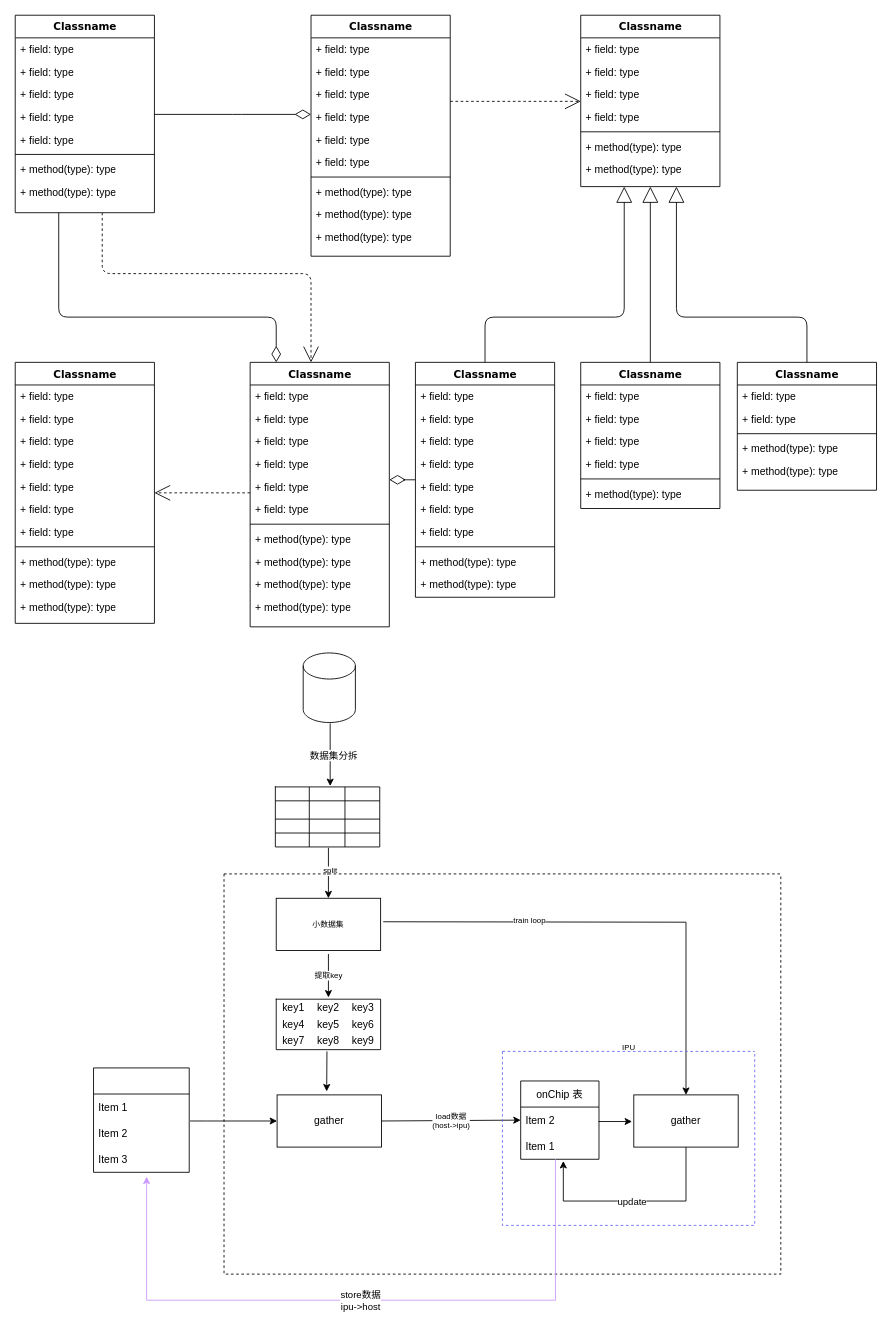
Image size: 892x1327. Some labels were removed from this diagram. Here are the shapes that lost their labels. From the top down, the box of each, then its label:
(302, 652, 355, 723): 训练数据集
(93, 1067, 189, 1172): host 表
